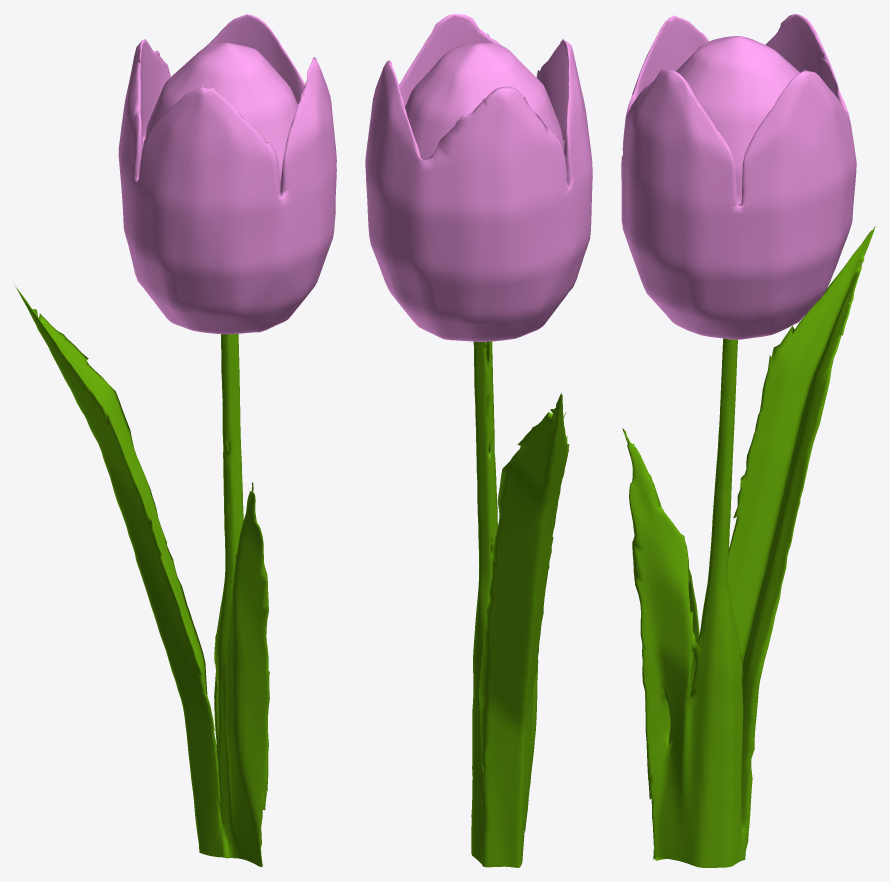
File: pastelpink2.glb
3 renders of one model, left to right at view 1: azimuth 30°, elevation 25°; view 2: azimuth 150°, elevation 25°; view 3: azimuth 270°, elevation 25°, orthographic. The views are drawn at different scales.
Parts seen in each view (by area): view 1: tulip_pastelpink, tulip_leaf; view 2: tulip_pastelpink, tulip_leaf; view 3: tulip_pastelpink, tulip_leaf.
Boxes of the visible parts, x1,y1,x2,y2 form: tulip_pastelpink: (118,14,336,334); tulip_leaf: (14,285,269,866); tulip_pastelpink: (365,14,592,341); tulip_leaf: (471,341,569,867); tulip_pastelpink: (621,14,856,339); tulip_leaf: (622,226,875,867).
Size of the model in its own units: 0.2801 by 0.8916 by 0.2477.
